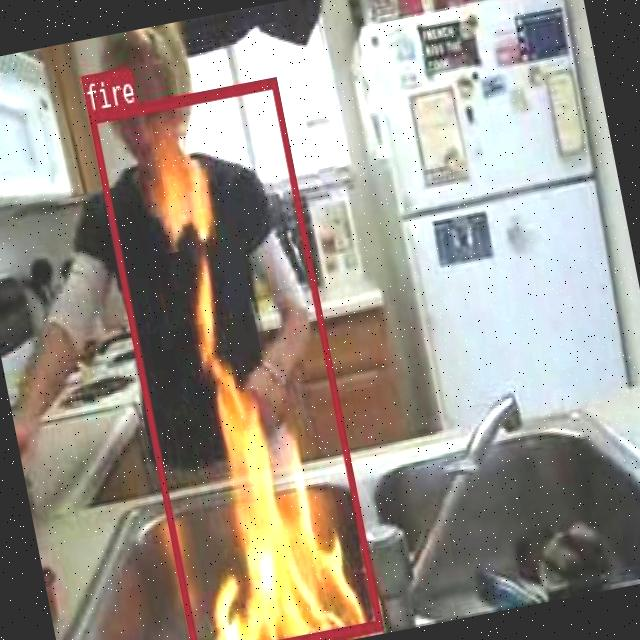fire: (87, 75, 381, 640)
